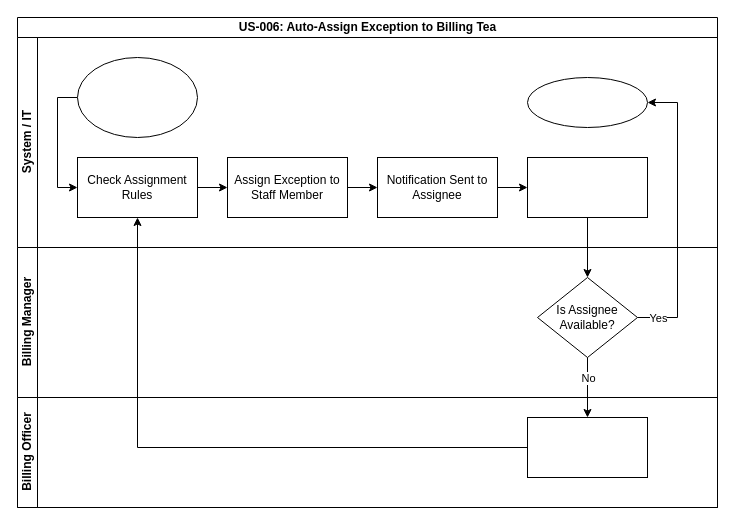
Image size: 735x525. Some labels were removed from this diagram. The shapes that lost their labels are listed below. From the top down, each one's centre as x and y in pixels, then its label:
At (x=137, y=97): "Exception detected (from US-005)".
At (x=587, y=102): "End".
At (x=587, y=187): "Dashboard Updated (Real-Time Status)".
At (x=587, y=447): "Reassign Exception".
